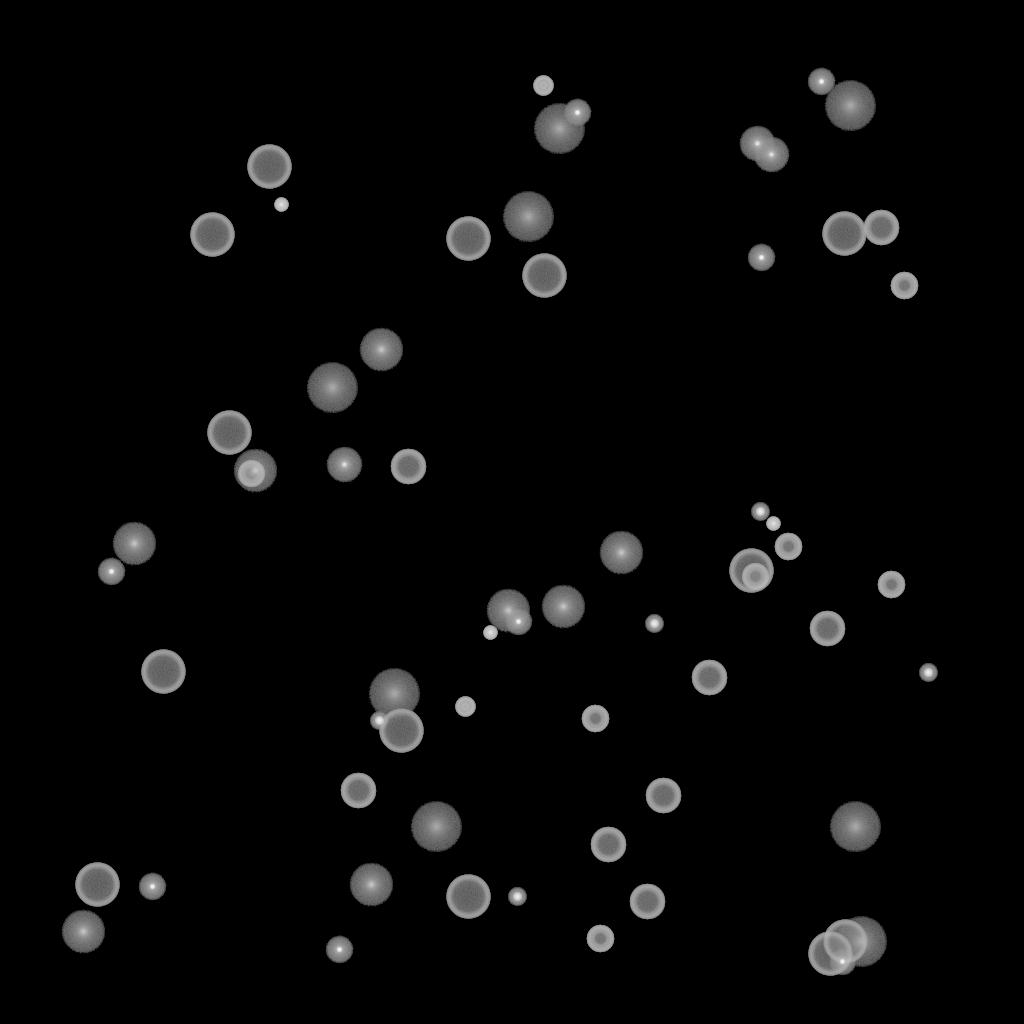depth:-10: (325, 936, 353, 964), (504, 608, 532, 636), (828, 948, 856, 976), (807, 68, 835, 96), (97, 558, 125, 586), (563, 99, 591, 127), (747, 244, 775, 272), (138, 873, 166, 901)
depth:-20: (919, 664, 937, 682), (751, 503, 769, 521), (508, 888, 526, 906), (370, 712, 388, 730), (645, 615, 663, 633)
depth:-30: (274, 198, 288, 212), (483, 626, 497, 640), (766, 517, 780, 531)
depth:-40: (533, 76, 553, 96), (455, 697, 475, 717)
depth:-50: (890, 272, 918, 300), (877, 571, 905, 599), (586, 925, 614, 953), (237, 460, 265, 488), (741, 563, 769, 591), (774, 533, 802, 561), (581, 705, 609, 733)
depth:-60: (590, 827, 626, 863), (390, 449, 426, 485), (809, 611, 845, 647), (645, 778, 681, 814), (629, 884, 665, 920), (691, 660, 727, 696), (340, 773, 376, 809), (863, 210, 899, 246)
depth:-70: (446, 875, 490, 919), (522, 254, 566, 298), (729, 549, 773, 593), (141, 650, 185, 694), (247, 145, 291, 189), (75, 863, 119, 907), (446, 217, 490, 261), (379, 709, 423, 753), (207, 411, 251, 455), (823, 920, 867, 964), (808, 932, 852, 976), (190, 213, 234, 257), (822, 212, 866, 256)
depth:0: (753, 137, 789, 173), (326, 447, 362, 483), (739, 126, 775, 162)
depth:10: (541, 585, 585, 629), (486, 589, 530, 633), (349, 863, 393, 907), (599, 531, 643, 575), (61, 910, 105, 954), (233, 449, 277, 493), (359, 328, 403, 372), (112, 522, 156, 566)
depth:20: (368, 669, 420, 719), (410, 802, 462, 852), (306, 363, 358, 413), (533, 104, 585, 154), (824, 81, 876, 131), (835, 917, 887, 967), (829, 802, 881, 852), (502, 192, 554, 242)
